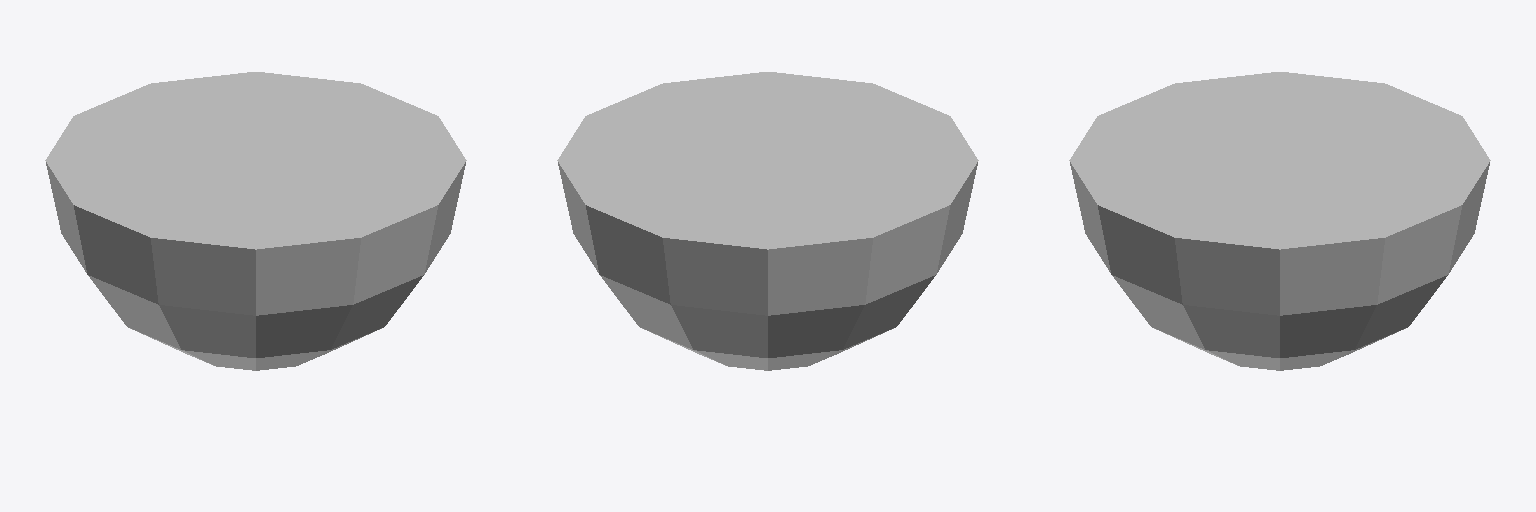
File: convsersation_stone.obj
3 views of the same model, side by side, from view 1: azimuth 30°, elevation 25°; view 2: azimuth 150°, elevation 25°; view 3: azimuth 270°, elevation 25° (orthographic).
Visible parts, largest first — view 1: Sphere; view 2: Sphere; view 3: Sphere.
Part boxes in pixels (bbox=[...]): Sphere: bbox=[45, 72, 466, 370]; Sphere: bbox=[557, 72, 978, 370]; Sphere: bbox=[1069, 72, 1490, 370].
Bounding box in the file's own units: 2 × 1 × 2.